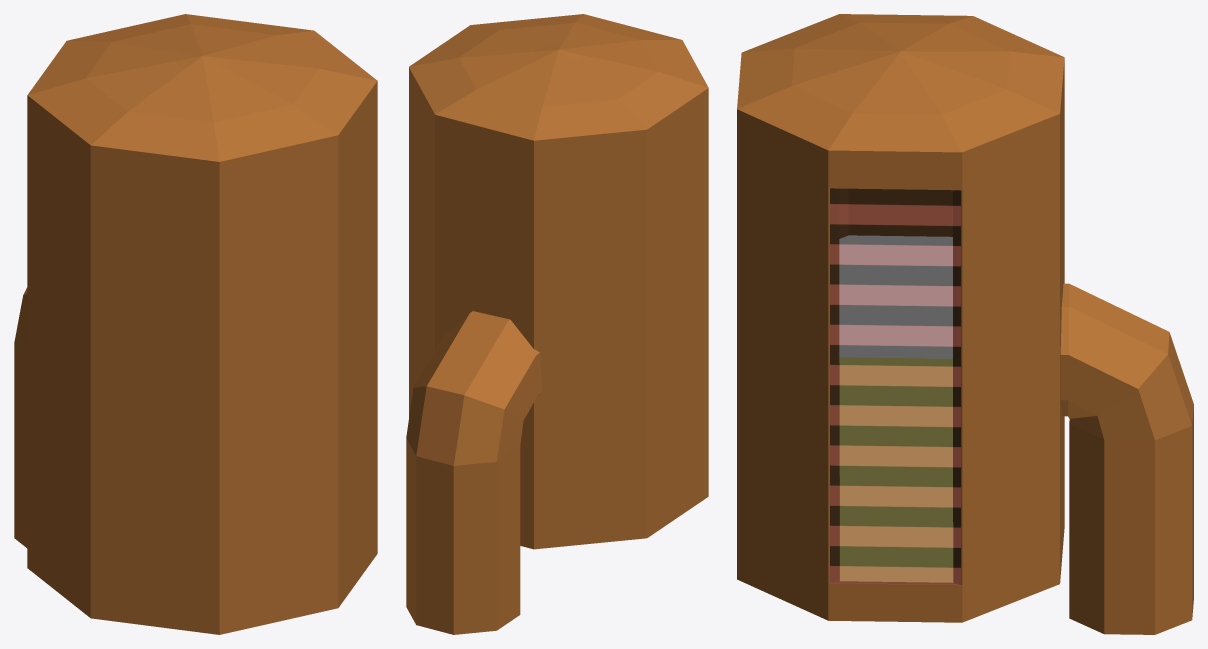
File: VAT110.glb
3 views of the same model, side by side, from view 1: azimuth 30°, elevation 25°; view 2: azimuth 150°, elevation 25°; view 3: azimuth 270°, elevation 25° (orthographic). The views are drawn at different scales.
Visible parts, largest first — view 1: Cylinder, Cylinder.001; view 2: Cylinder, Cylinder.001; view 3: Cylinder, glass, Cylinder.001, liquidHeight.
Part boxes in pixels (left/top/right/bottom): Cylinder: left=27, top=14, right=377, bottom=634; Cylinder.001: left=14, top=287, right=27, bottom=547; Cylinder: left=409, top=14, right=708, bottom=549; Cylinder.001: left=406, top=311, right=541, bottom=634; Cylinder: left=737, top=14, right=1064, bottom=622; glass: left=830, top=188, right=960, bottom=584; Cylinder.001: left=1060, top=283, right=1193, bottom=634; liquidHeight: left=839, top=235, right=952, bottom=582.
Size of the model in its own units: 1.82 by 3.44 by 2.54.
Materials: 4 (1 with a texture image).
